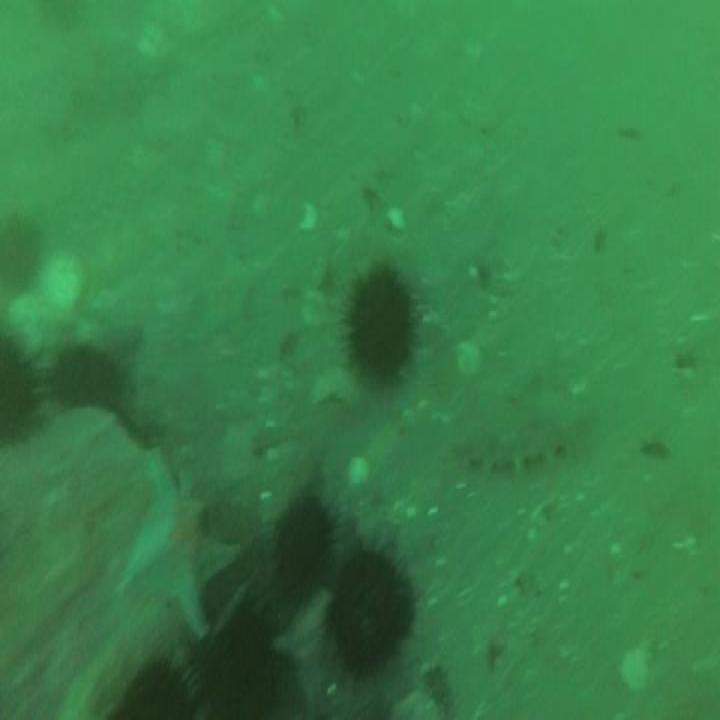echinus: (332, 551, 409, 676), (205, 622, 284, 720), (349, 274, 413, 377), (272, 505, 330, 599), (0, 338, 34, 452), (58, 341, 113, 411), (125, 668, 187, 720)
holothurian: (452, 404, 577, 477)
starfish: (123, 451, 236, 633)
